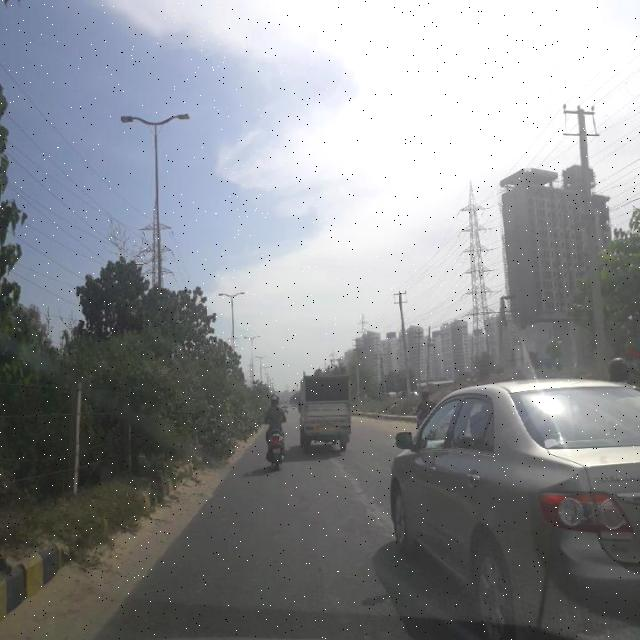D20: (132, 472, 378, 631)
